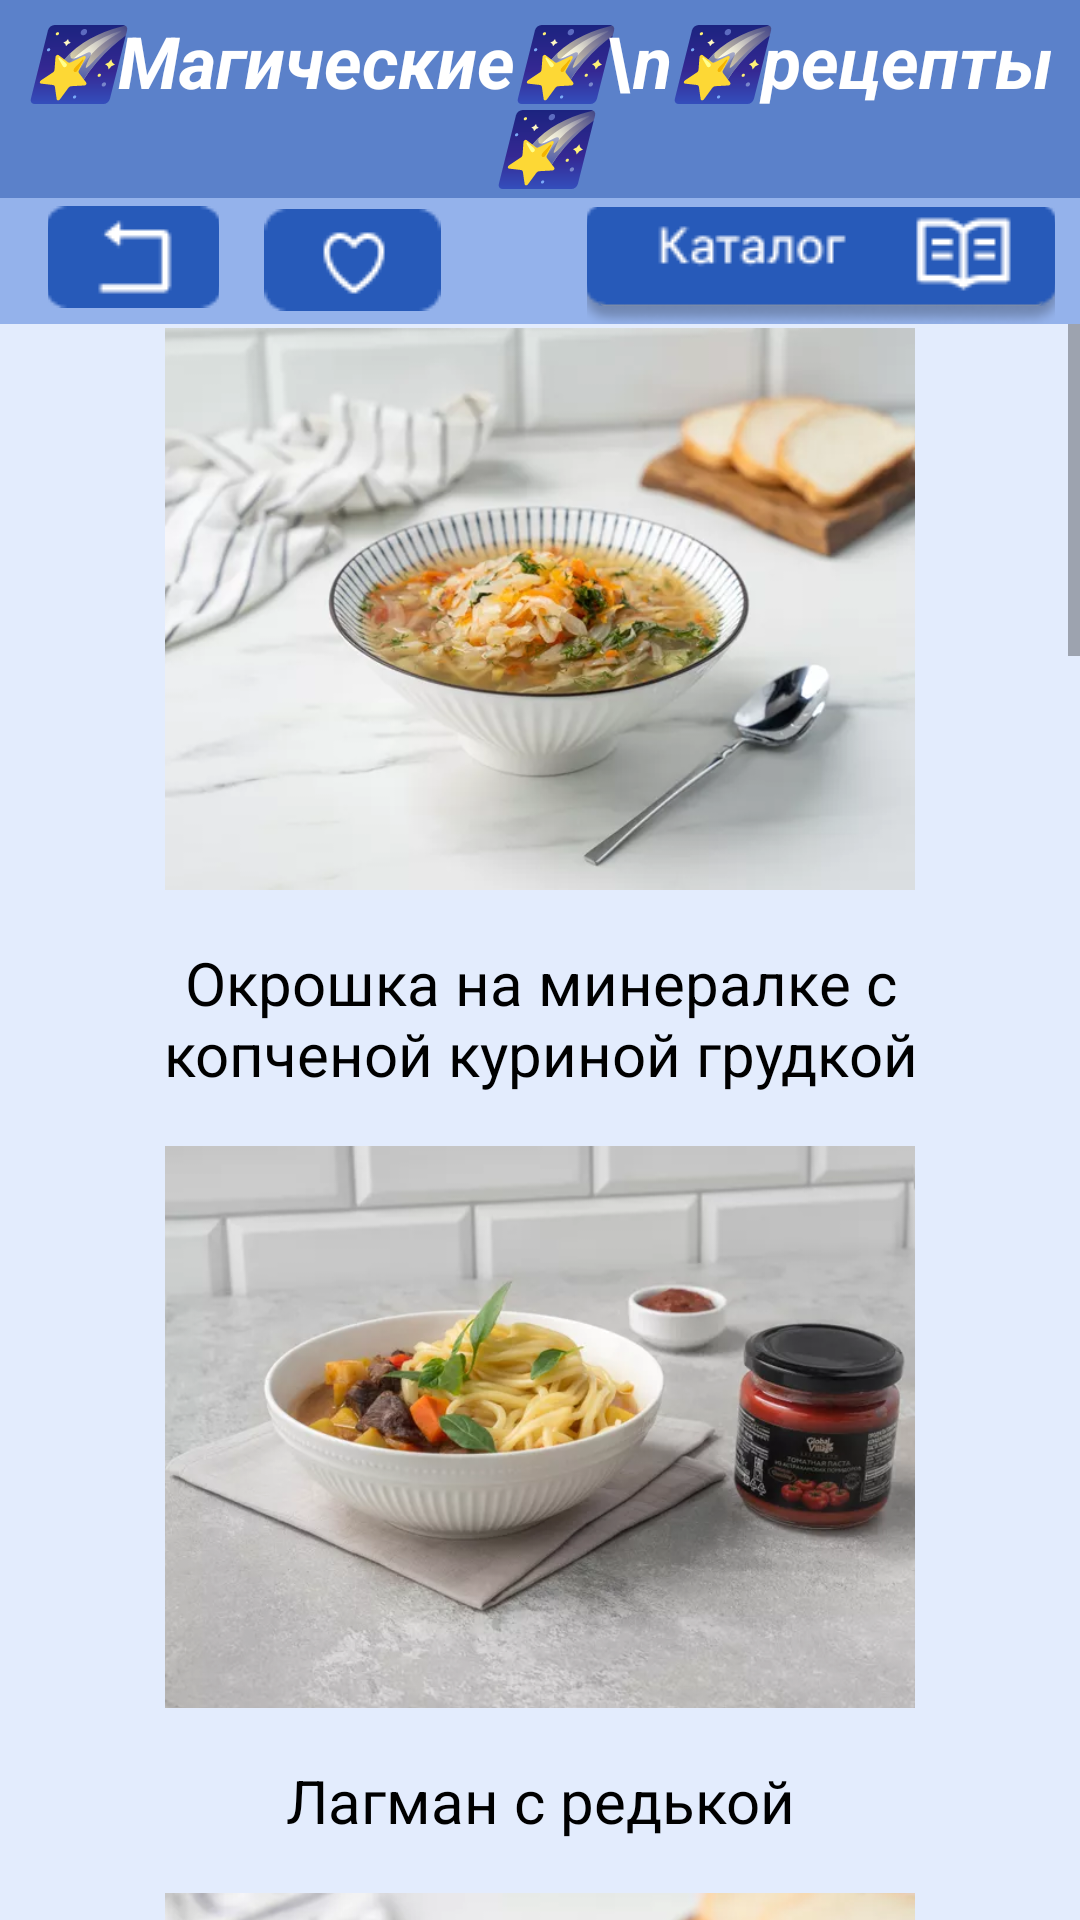

Screen size 1080px×1920px. Icon name, then its center in pixels as [x,y]:
exitaccount: [133,257]
favouritebutton: [352,260]
